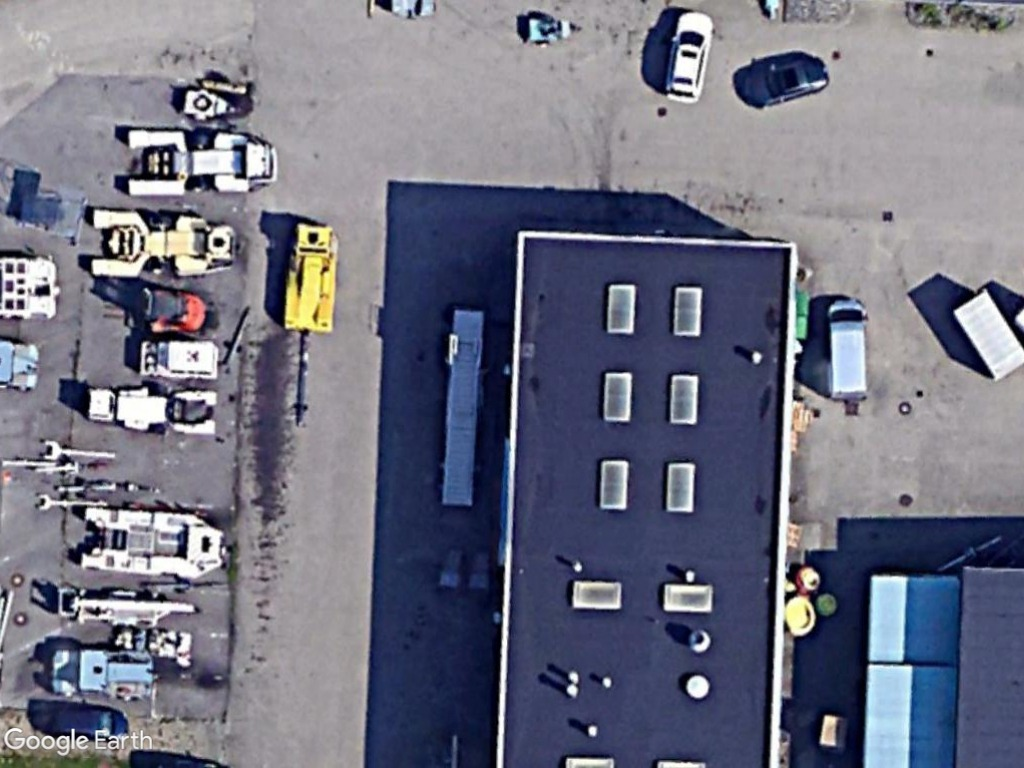car: (739, 52, 834, 112), (662, 8, 720, 106)
pushbacktruck: (123, 123, 282, 202), (77, 504, 229, 584), (88, 205, 240, 284), (88, 379, 223, 442)
van: (824, 295, 873, 409)
